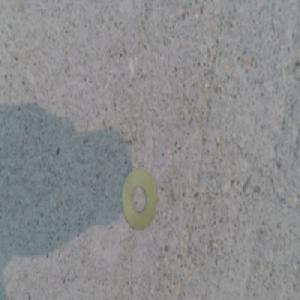Washer: (117, 164, 155, 231)
